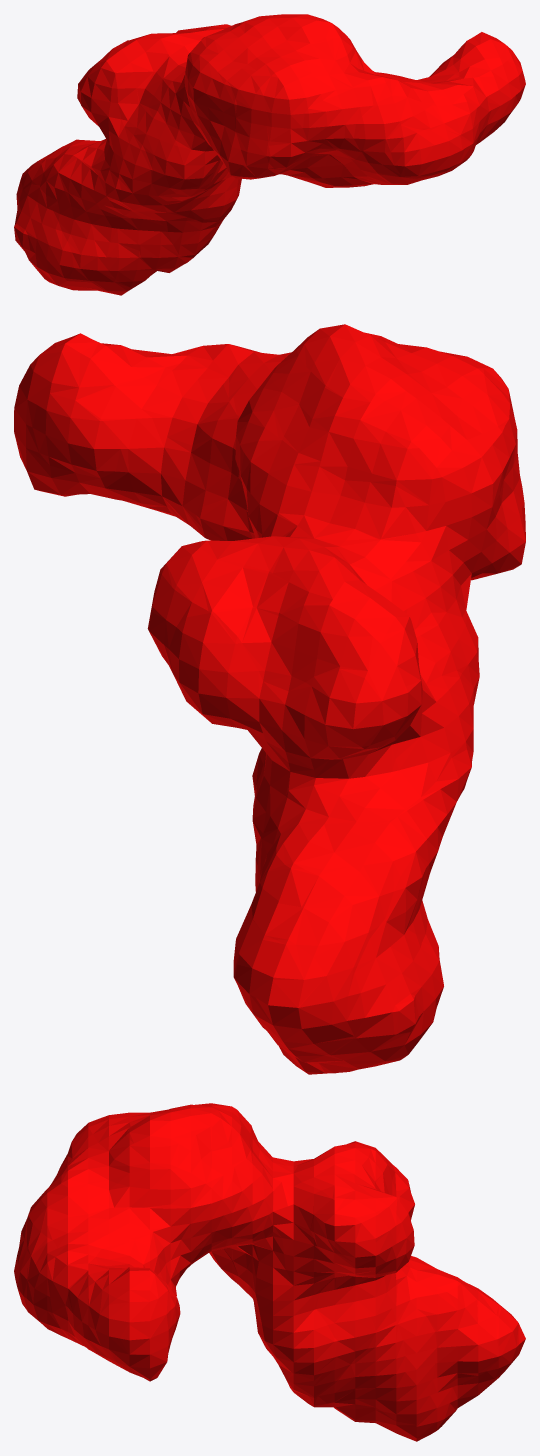
The model's file is yggE_coarse.dae.
3 views of the same model, one above another, from view 1: azimuth 30°, elevation 25°; view 2: azimuth 150°, elevation 25°; view 3: azimuth 270°, elevation 25° (orthographic). The views are drawn at different scales.
Visible parts, largest first — view 1: yggE; view 2: yggE; view 3: yggE.
Part boxes in pixels (bbox=[...]): yggE: bbox=[14, 14, 525, 295]; yggE: bbox=[14, 324, 525, 1074]; yggE: bbox=[14, 1103, 525, 1441].
Bounding box in the file's own units: 70.17 × 60.46 × 74.86.
